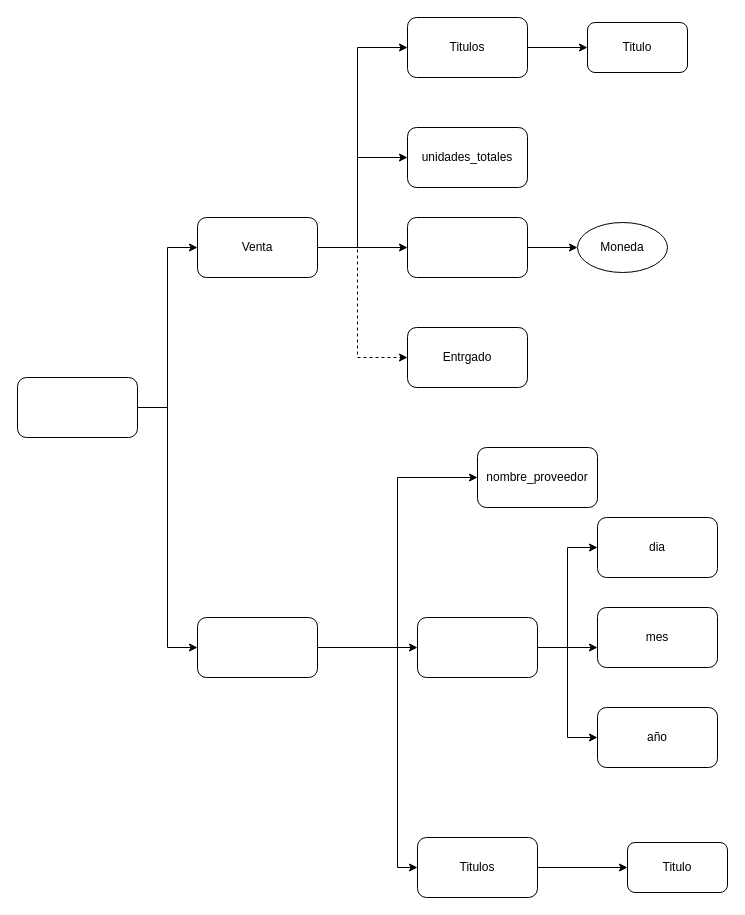
Some shapes in this 745 by 915 pixel diagram are drawn without their labels. The shapes that lost their labels are listed below. From the top down, each one's box as (x1, y1, x2, y2) in pixels, then its label:
(406, 216, 528, 278): Importe
(16, 376, 138, 438): Empresa
(196, 616, 318, 678): Compra
(416, 616, 538, 678): fecha_compra
